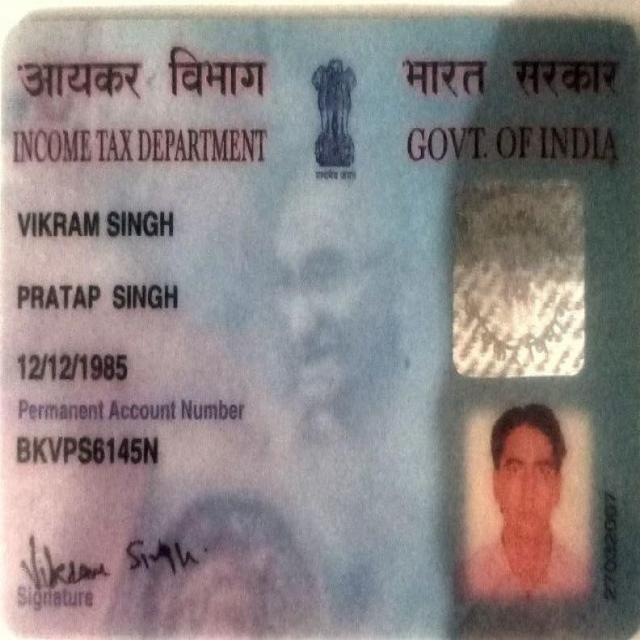pan_card: (1, 19, 638, 640)
